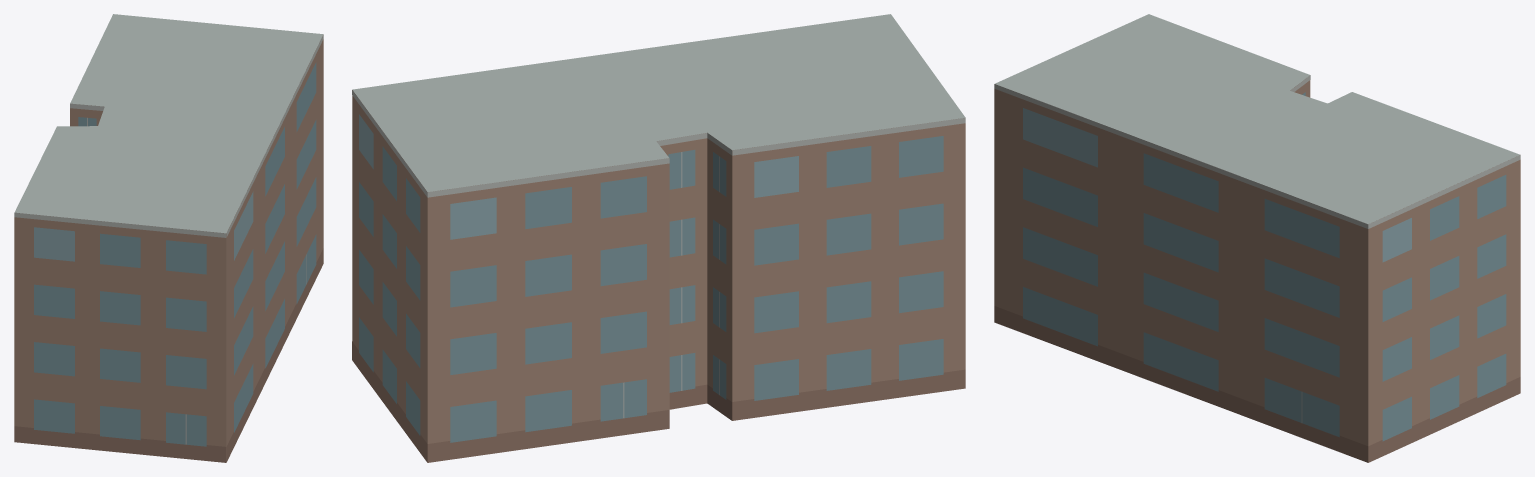
Rendered from survey-upis-32780526.glb.
3 views of the same model, side by side, from view 1: azimuth 30°, elevation 25°; view 2: azimuth 150°, elevation 25°; view 3: azimuth 270°, elevation 25° (orthographic). The views are drawn at different scales.
Parts seen in each view (by area): view 1: survey-upis-32780526.tmp; view 2: survey-upis-32780526.tmp; view 3: survey-upis-32780526.tmp.
Part boxes in pixels (<box>): survey-upis-32780526.tmp: <box>14,14,323,462</box>; survey-upis-32780526.tmp: <box>352,14,965,462</box>; survey-upis-32780526.tmp: <box>994,14,1520,462</box>.
Size of the model in its own units: 22.88 by 12.1 by 24.19.
